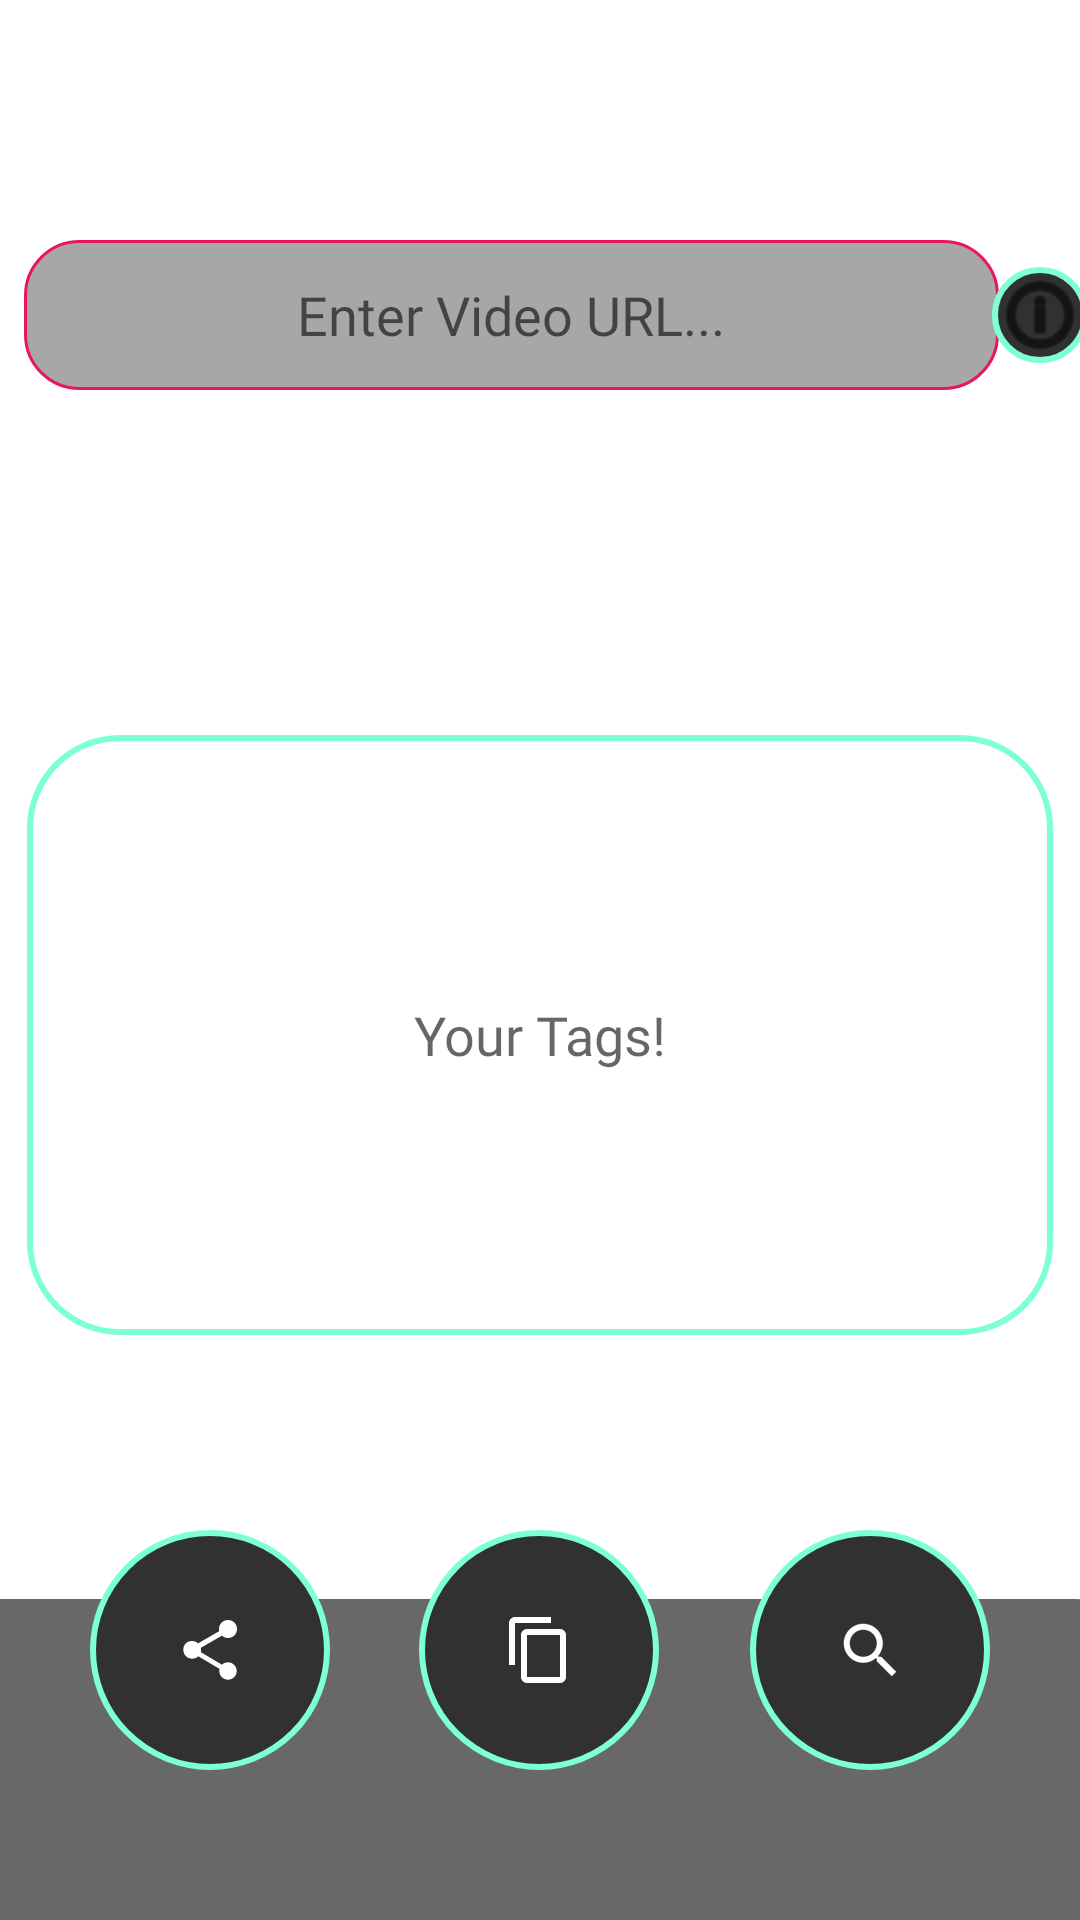

Screen size 1080px×1920px. Icon name, then its center in pixels as (x,y):
info details: (1036,315)
